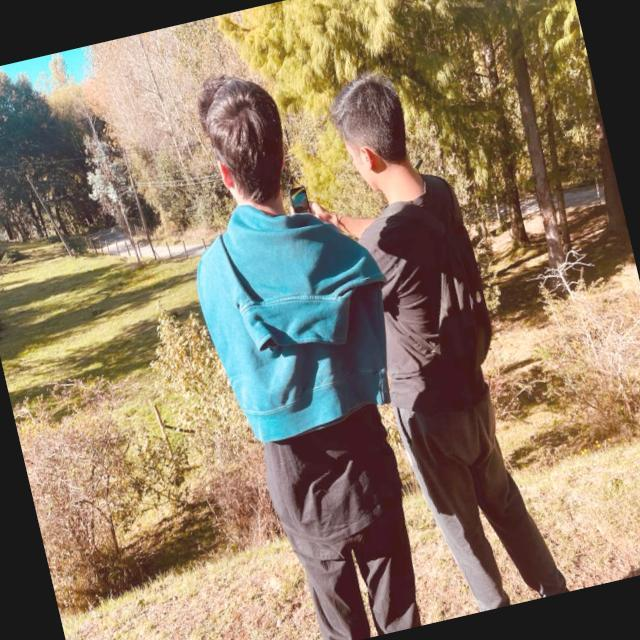person: (136, 45, 451, 640), (303, 46, 590, 620)
